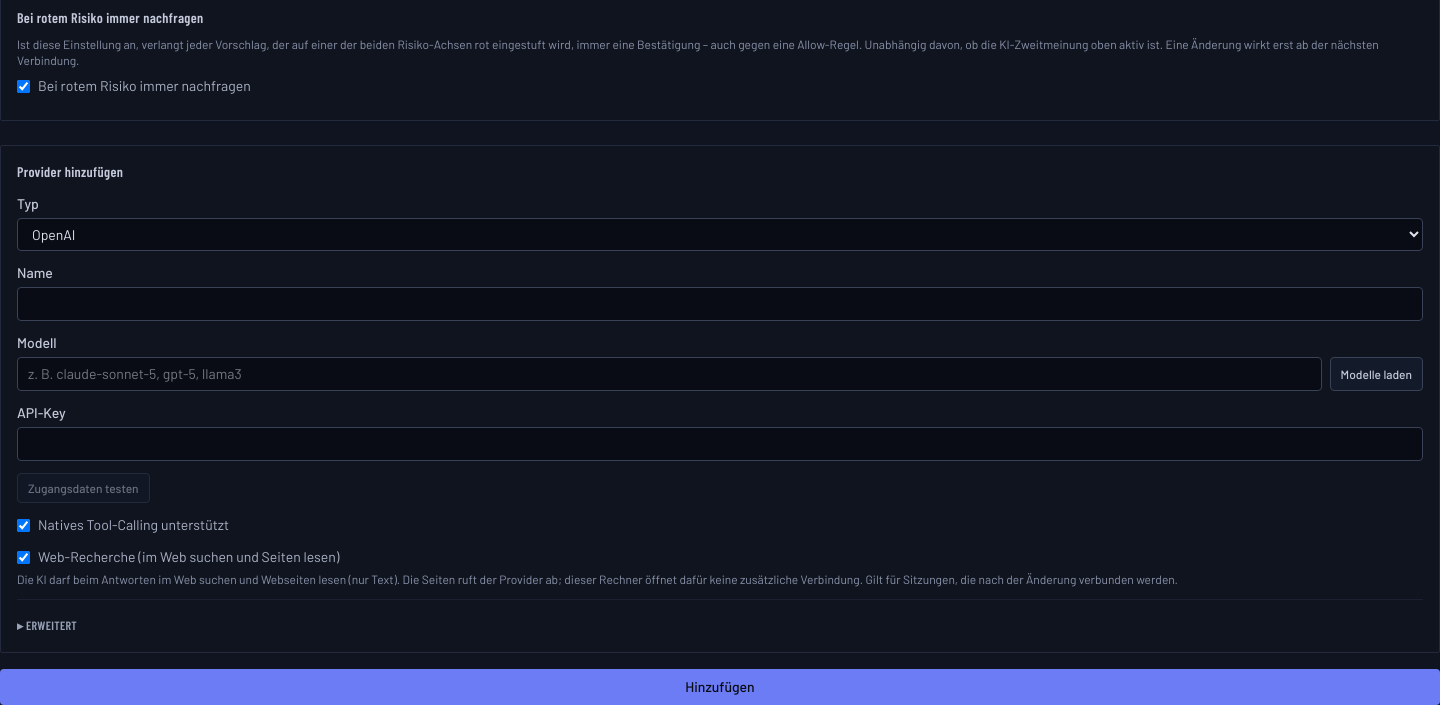
Test: AiProviderSettings max_tokens override (Spec 0065, Teil 4) › shows a validation hint and disables submit for 0
(page scrolled)
Click the button "▸ Erweitert". click: click(47, 625)
box: [17,617,77,633]
(page scrolled)
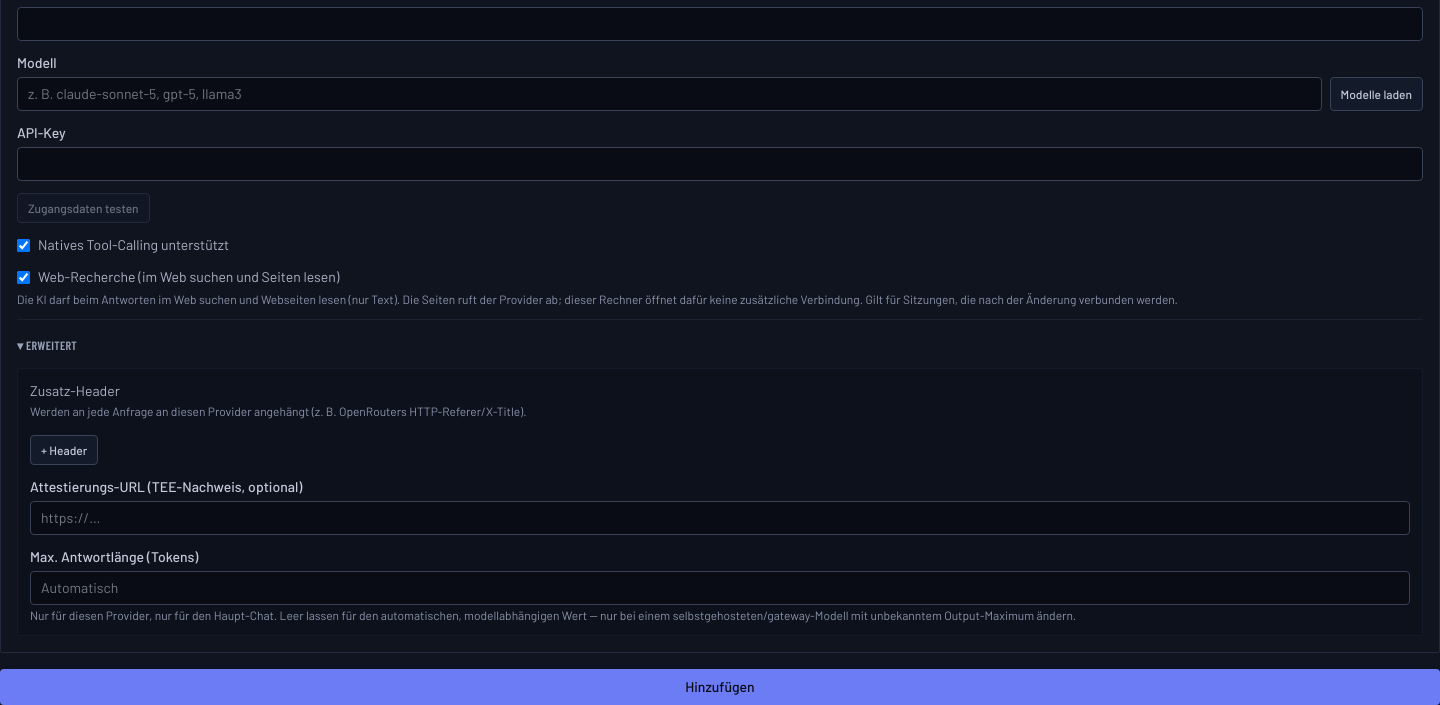
Type "0" into the number field labelled "Max. Antwortlänge (Tokens)". click: (720, 588)
box: [30,571,1410,605]
(page scrolled)
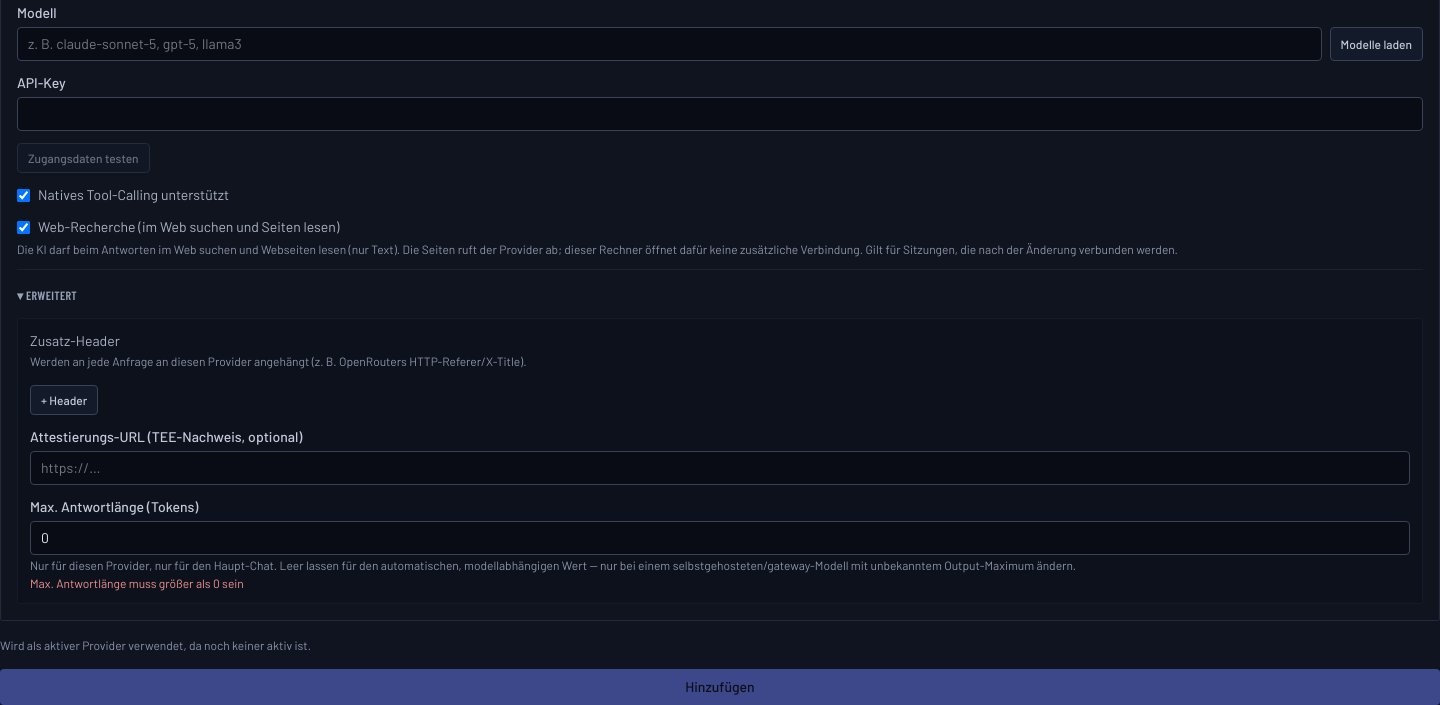
Result: the text "Max. Antwortlänge muss größer als 0 sein" is shown at [30,576,244,590]
Result: the button "Hinzufügen" is disabled at [0,669,1439,704]
